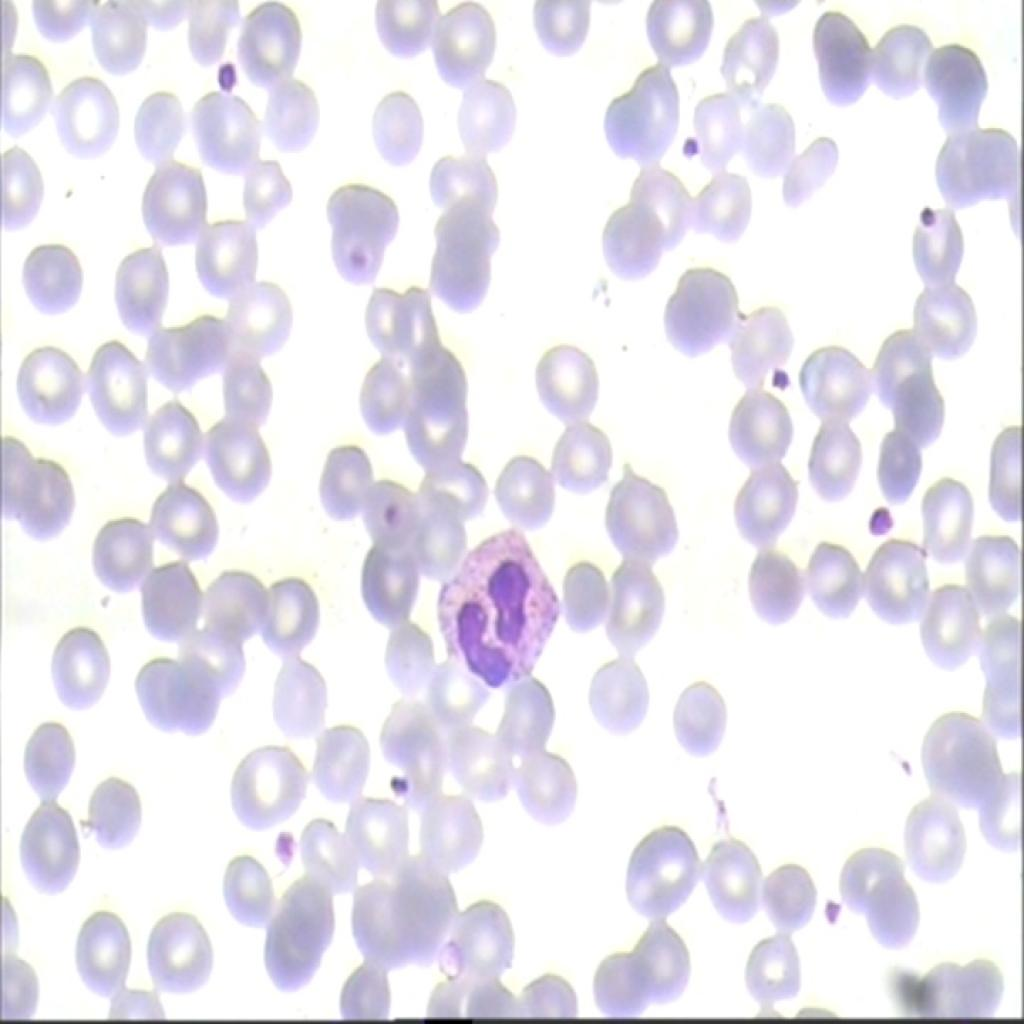Neutrofil: (428, 508, 556, 698)
Platelet: (199, 53, 248, 107), (256, 820, 297, 882), (667, 116, 707, 176), (862, 487, 899, 551), (378, 747, 412, 809), (766, 356, 798, 410), (909, 190, 940, 222)
